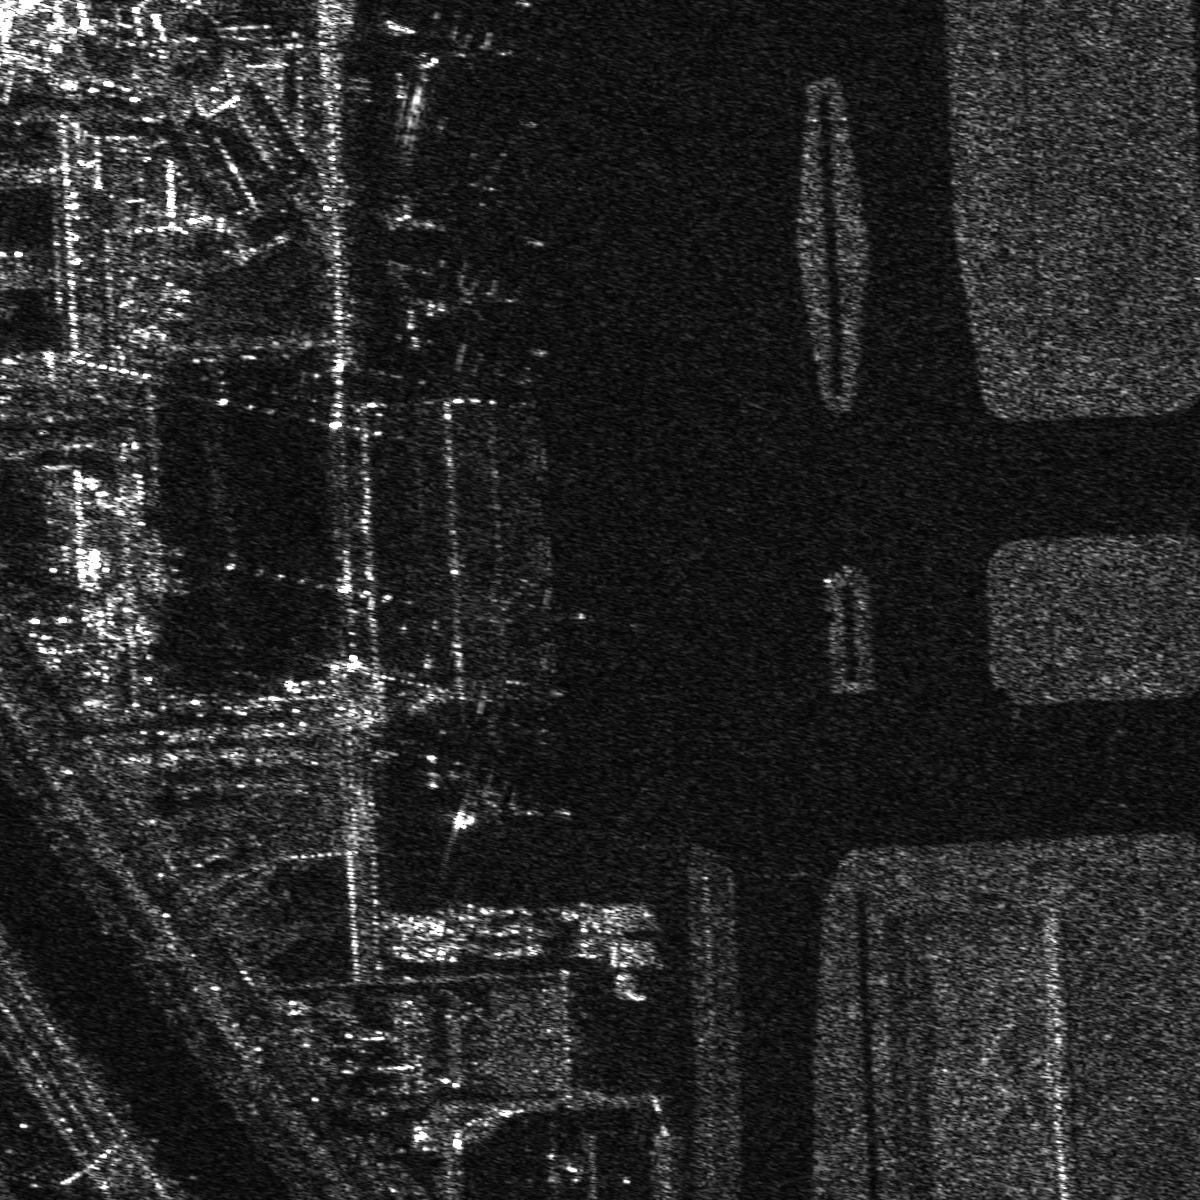A220: (421, 23, 519, 88), (427, 265, 521, 331)
